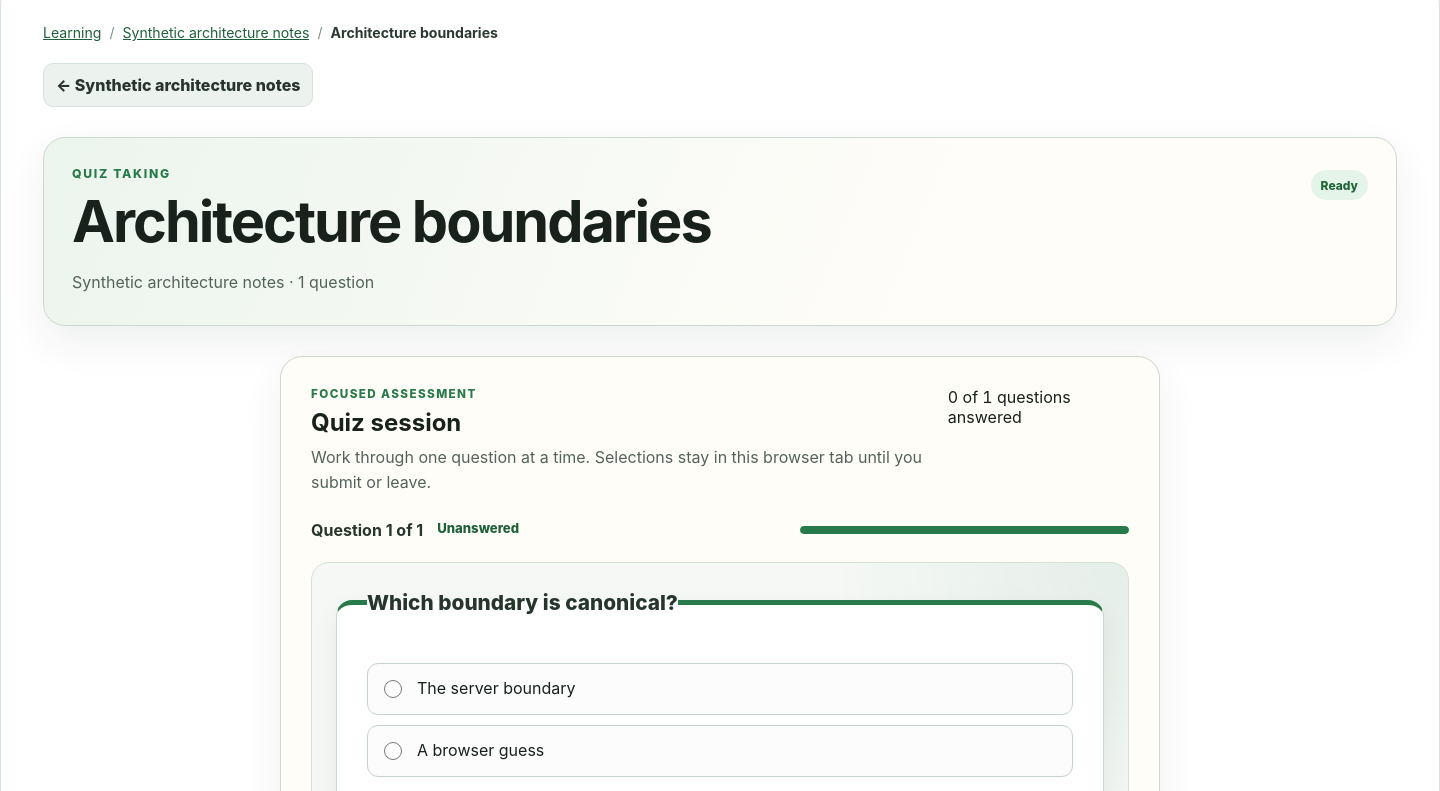
Test: Learning quiz workspace › keeps the in-memory draft after safe failure and blocks duplicate submission
This screenshot has width=1440, height=791.
expect the text "Which boundary is canonical?" is shown: met, box [367, 587, 678, 619]
Click the radio button labelled "The server boundary": (393, 689) [384, 680, 402, 698]
(page scrolled)
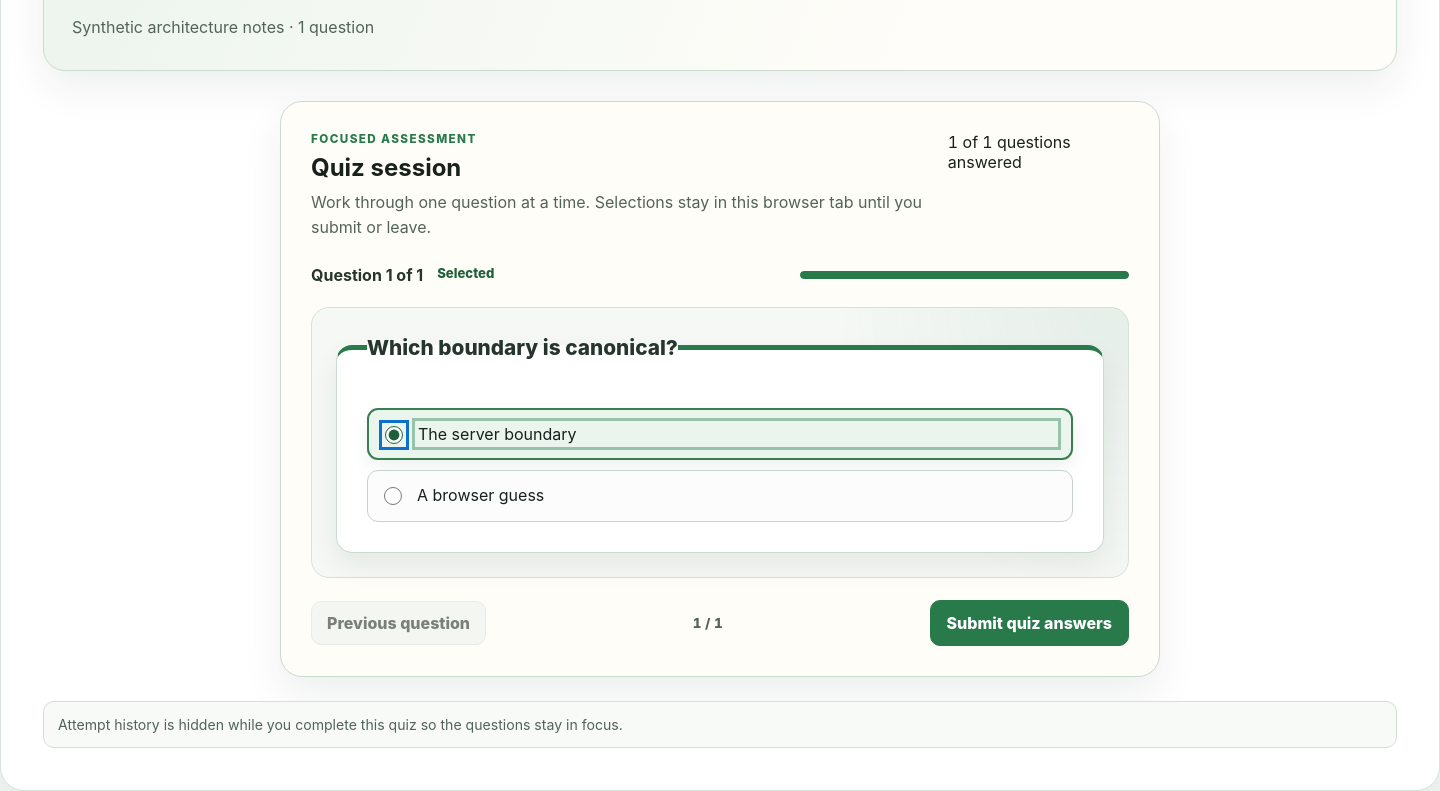
Click the button "Submit quiz answers": (1029, 623) [930, 600, 1129, 646]
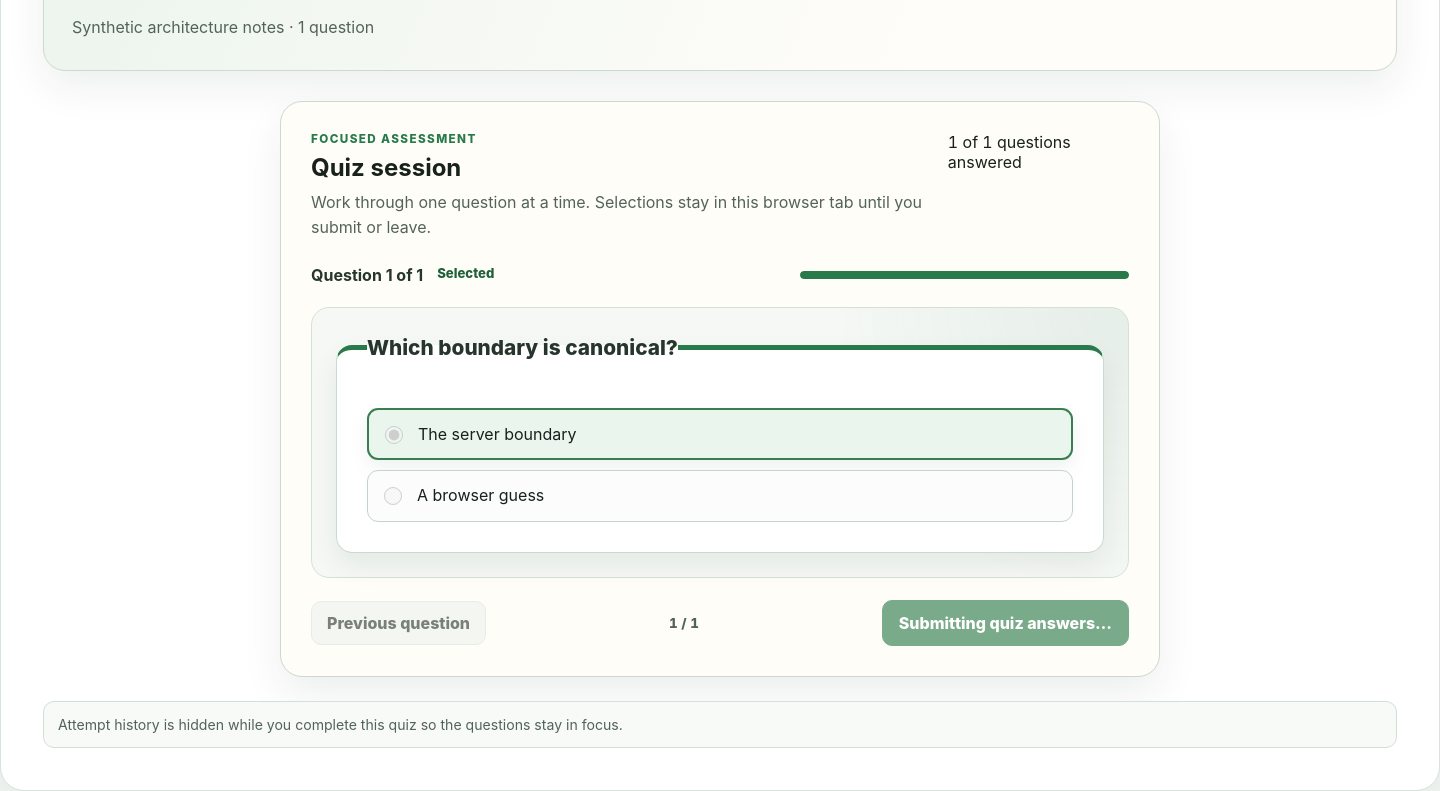
Click the button named "Submit quiz answers": (1005, 623) [882, 600, 1129, 646]
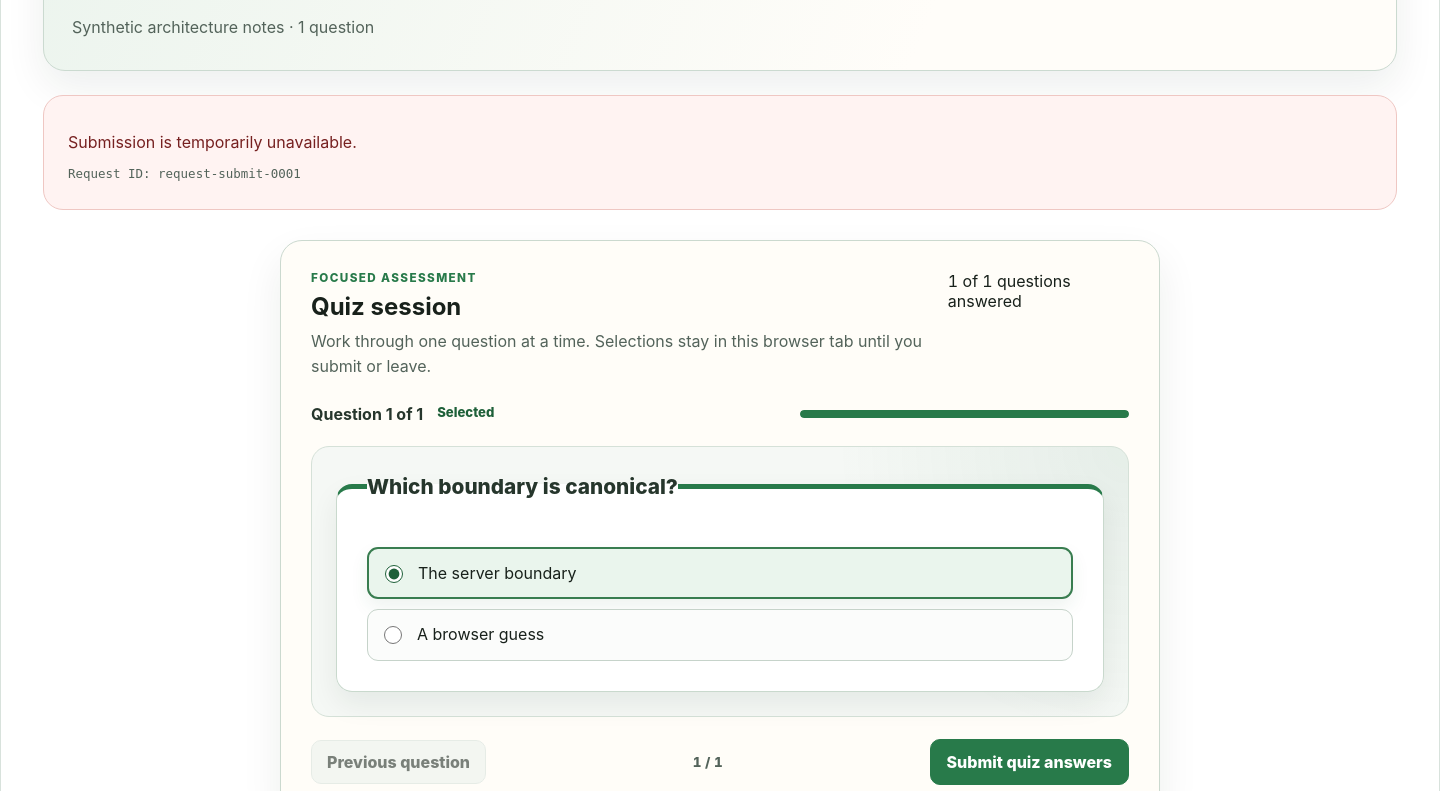
expect the radio button labelled "The server boundary" is checked: met, box [385, 565, 403, 583]
expect the text "Submission is temporarily unavailable." is shown: met, box [68, 132, 357, 152]
